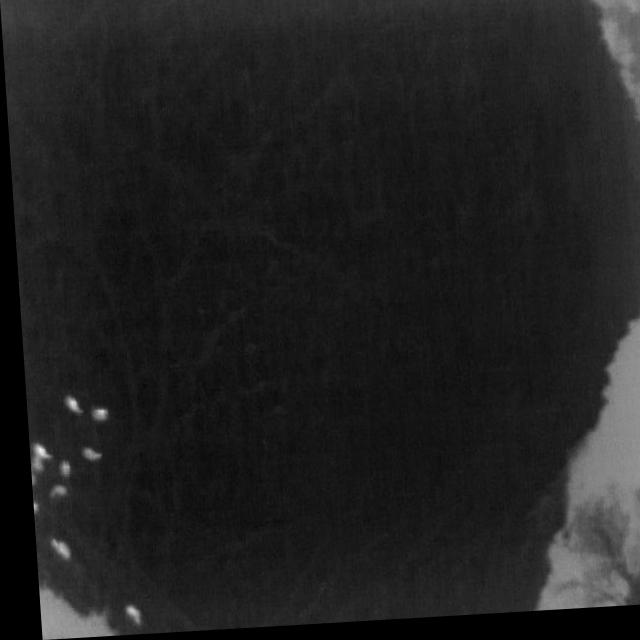deer: (42, 538, 64, 561), (58, 394, 78, 416), (24, 442, 47, 461), (116, 606, 134, 627), (75, 446, 96, 462), (84, 408, 103, 424), (42, 484, 62, 498), (52, 459, 65, 478), (24, 457, 39, 473), (26, 500, 33, 515), (25, 472, 31, 487)
